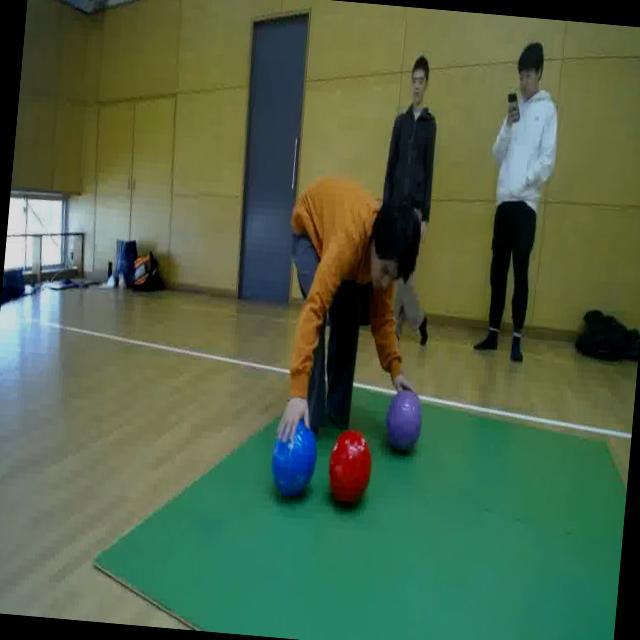blue_ball: (262, 413, 318, 528)
purple_ball: (378, 380, 434, 468)
red_ball: (322, 414, 381, 523)
